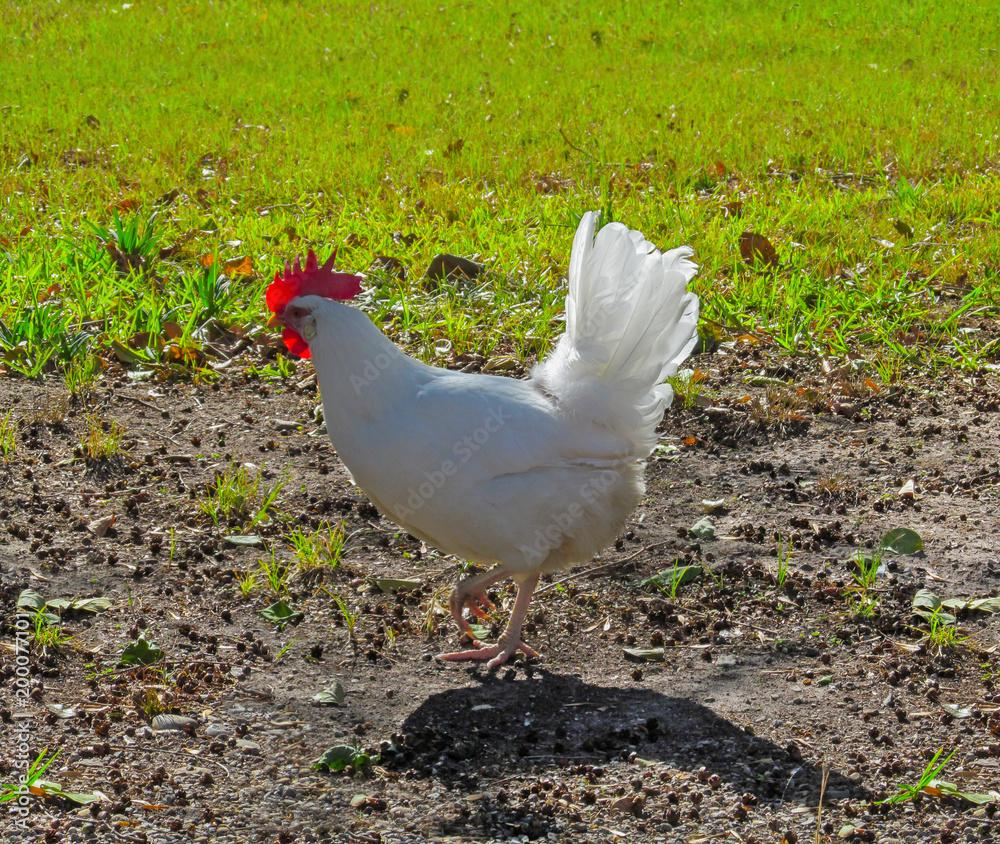AbNormal: (270, 210, 701, 677)
